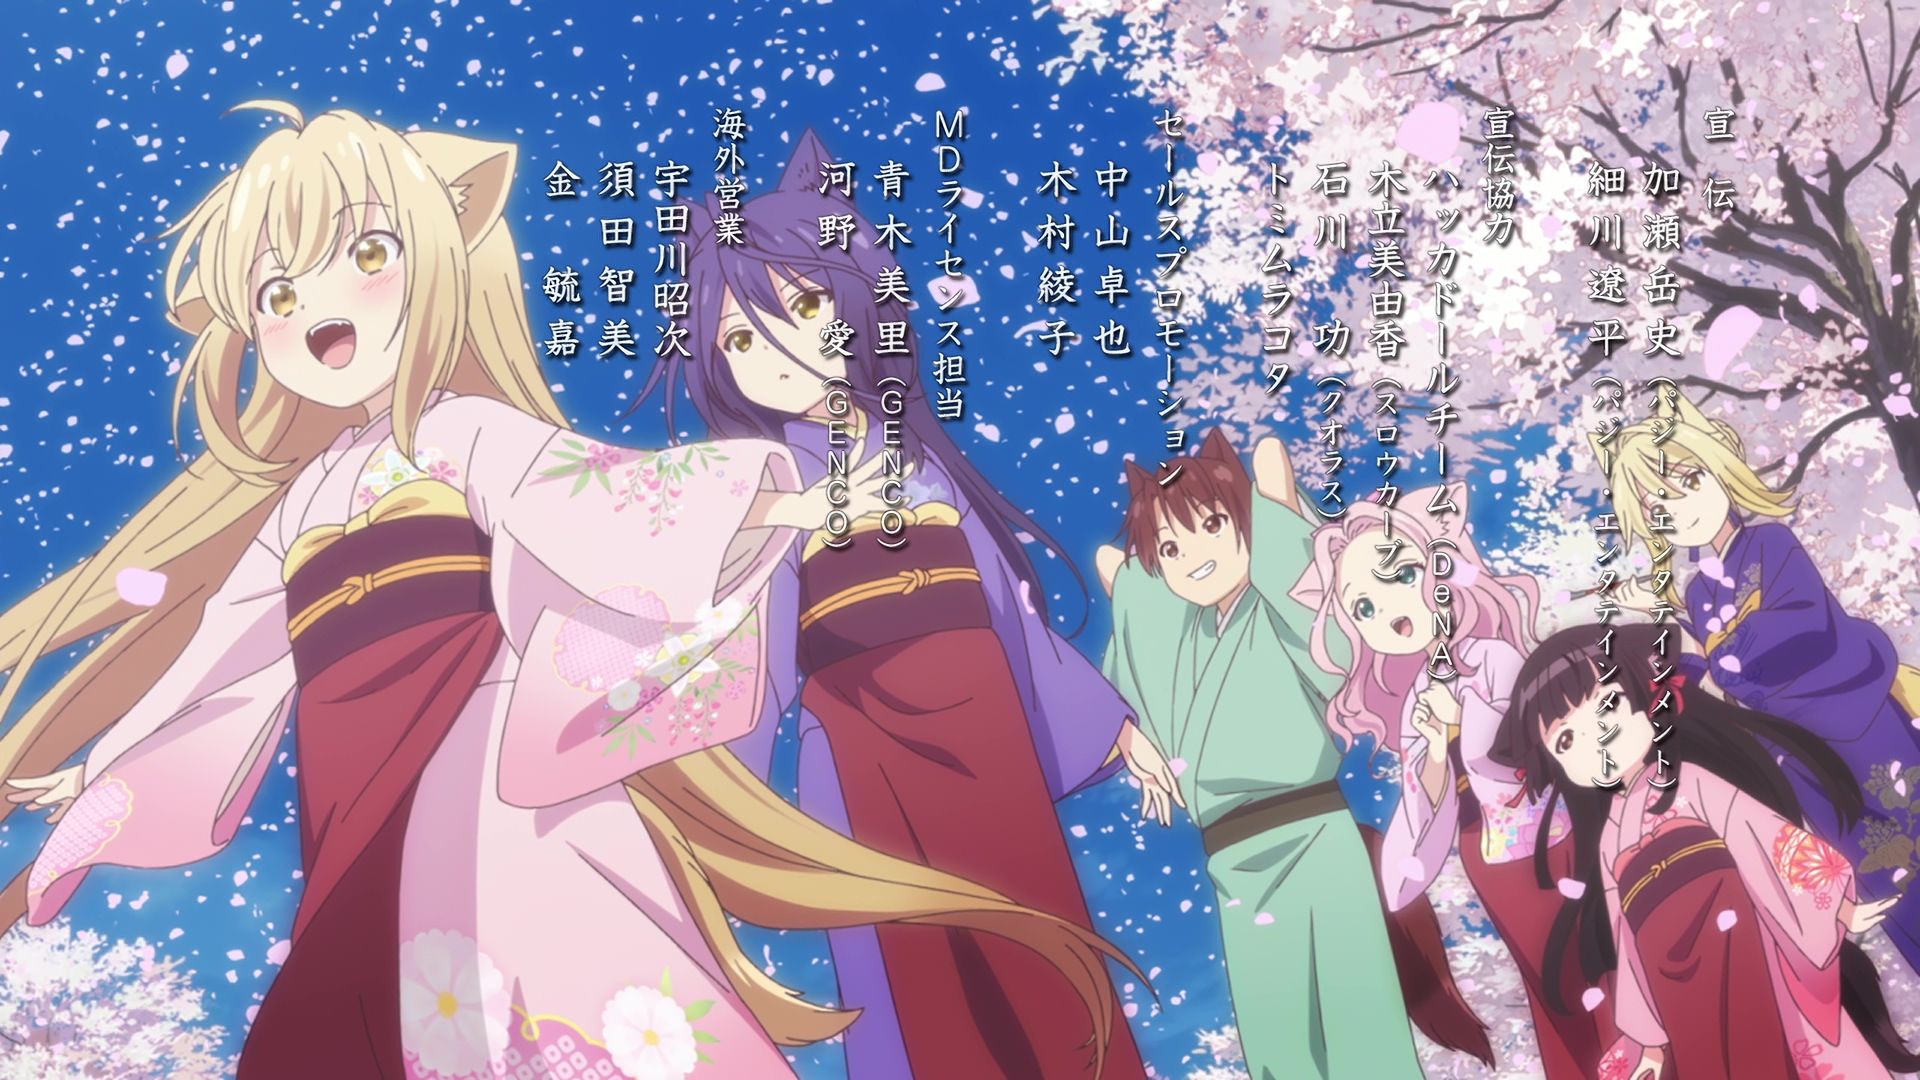枣: (1093, 431, 1495, 1080)
柚: (1, 98, 1162, 1080)
桐: (1588, 386, 1920, 967)
樱: (1489, 622, 1905, 1080)
皋: (618, 128, 1185, 1080)
莲: (1291, 483, 1618, 1080)
